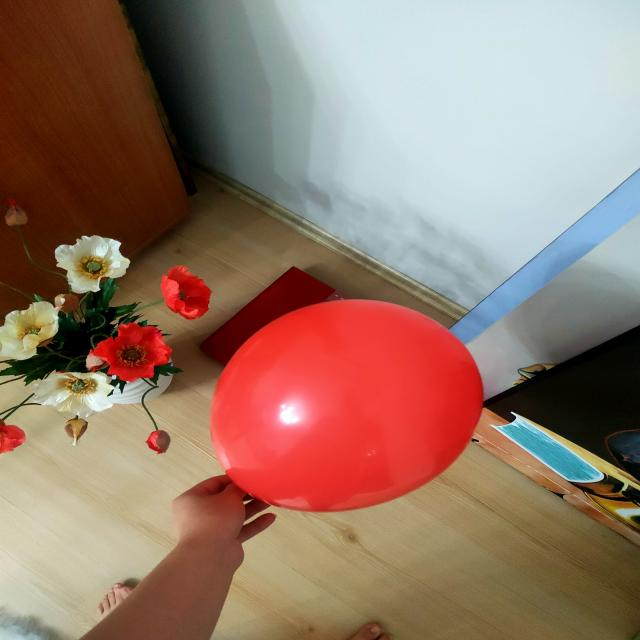red: (211, 301, 482, 512)
